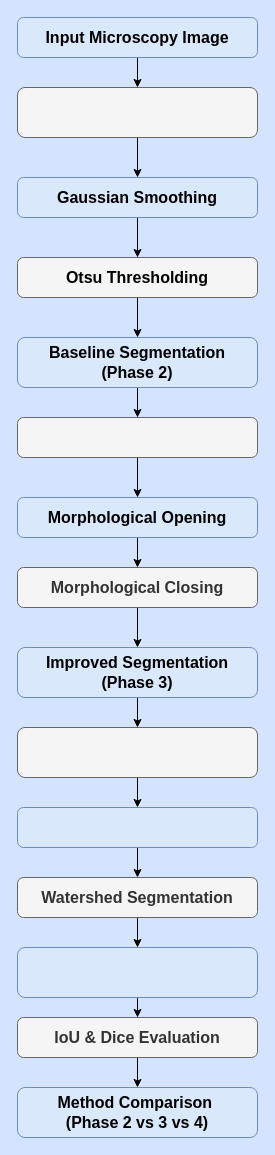
Image size: 275x1155. Some labels were removed from this diagram. The centre of each missing label's shape, as x and y in pixels:
"CLAHE Enhancement" goes at (x=137, y=437).
"Distance Transform" goes at (x=137, y=752).
"Final Segmentation (Phase 4)" goes at (x=137, y=972).
"Intensity Normalisation (12-bit → 8-bit)" goes at (x=137, y=112).
"Marker Generation" goes at (x=137, y=827).
